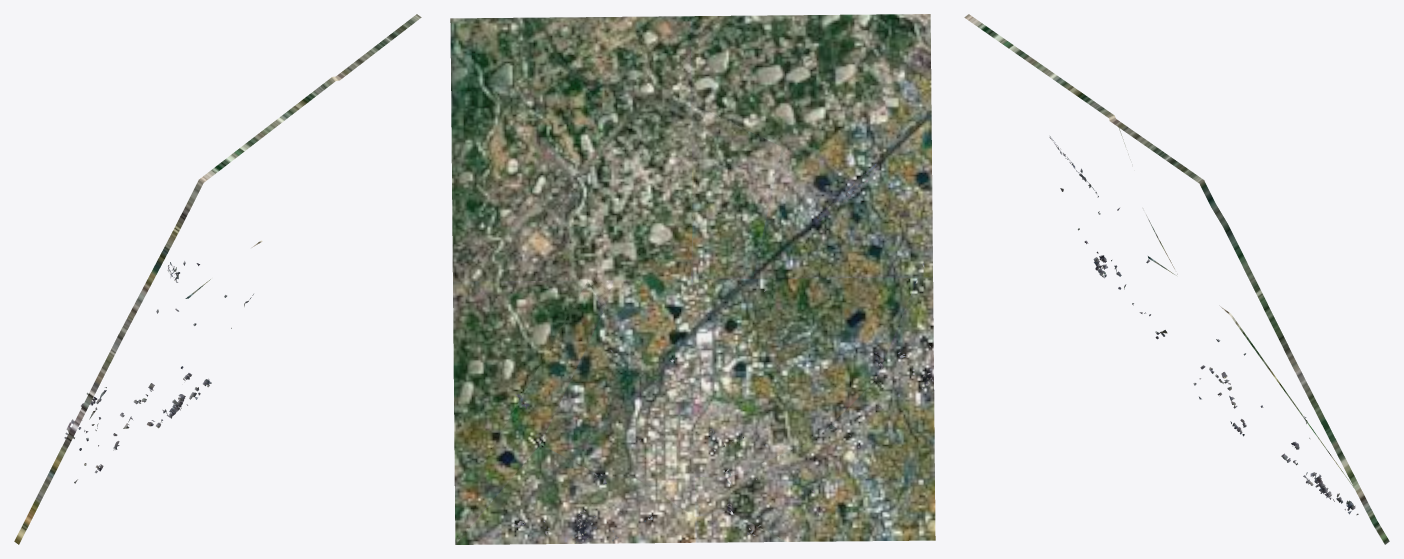
3 renders of one model, left to right at view 1: azimuth 30°, elevation 25°; view 2: azimuth 150°, elevation 25°; view 3: azimuth 270°, elevation 25°, orthographic. The views are drawn at different scales.
Size of the model in its own units: 9846 by 8882 by 8300.
Materials: 1 (1 with a texture image).
